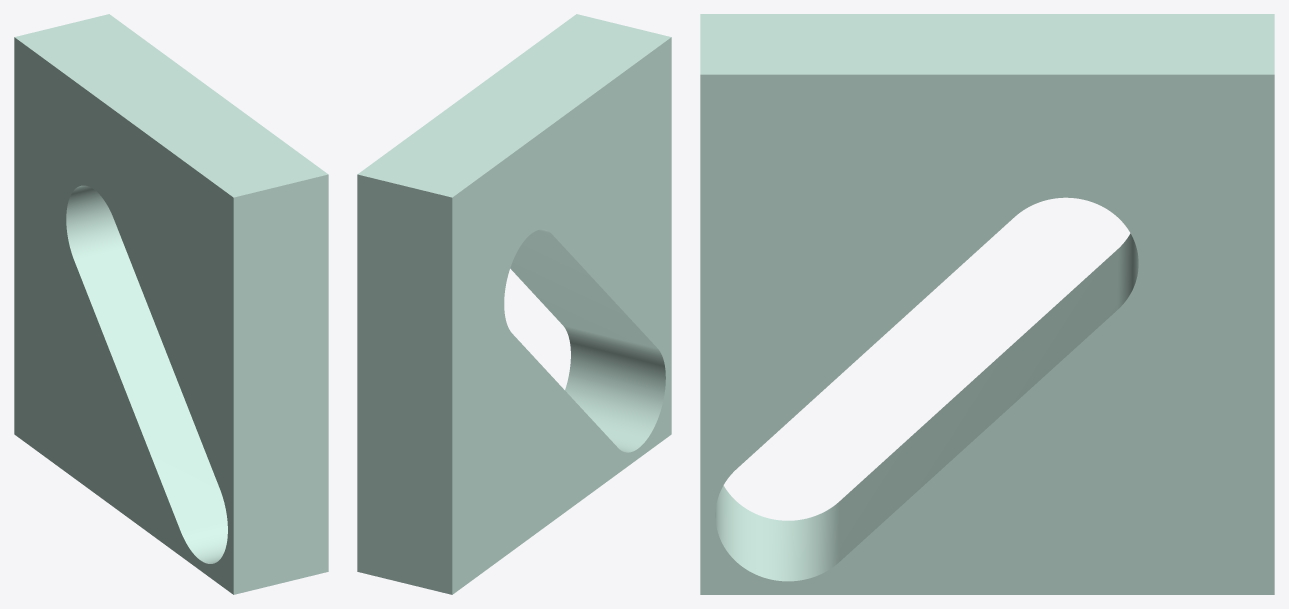
The picture shows the model from 3 angles, left to right: view 1: azimuth 30°, elevation 25°; view 2: azimuth 150°, elevation 25°; view 3: azimuth 270°, elevation 25°; orthographic projection. The views are drawn at different scales.
Parts seen in each view (by area): view 1: Renderer Node; view 2: Renderer Node; view 3: Renderer Node.
Boxes of the visible parts, left/top/right/bottom form: Renderer Node: left=14, top=14, right=328, bottom=594; Renderer Node: left=357, top=14, right=671, bottom=594; Renderer Node: left=700, top=14, right=1274, bottom=594.
Size of the model in its own units: 0.375 by 1.5 by 1.5.
